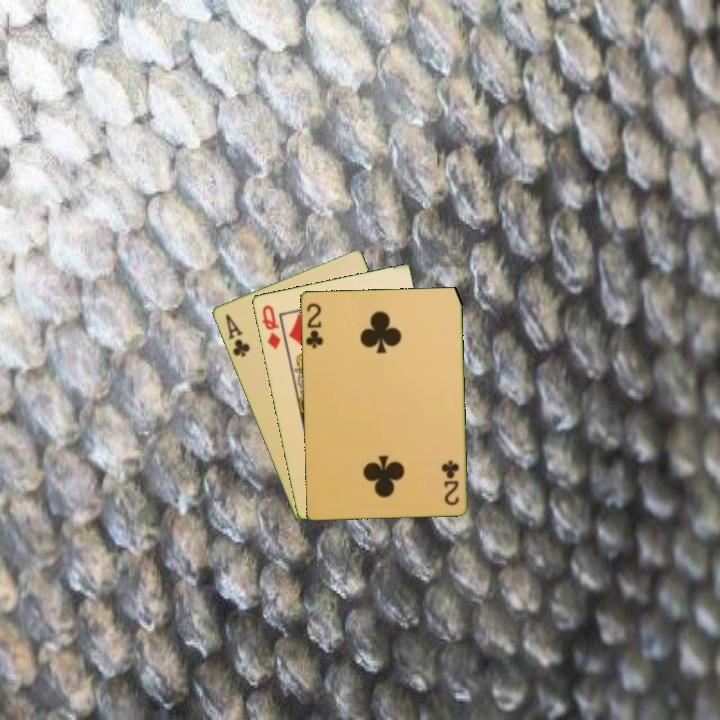2c: (302, 299, 326, 351), (440, 456, 462, 508)
Ac: (221, 310, 252, 360)
Qd: (258, 301, 283, 352)
